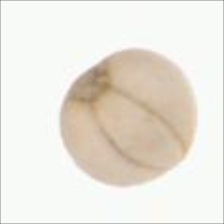L5: (91, 84, 188, 173), (64, 56, 115, 108)
L6: (59, 47, 198, 188)
